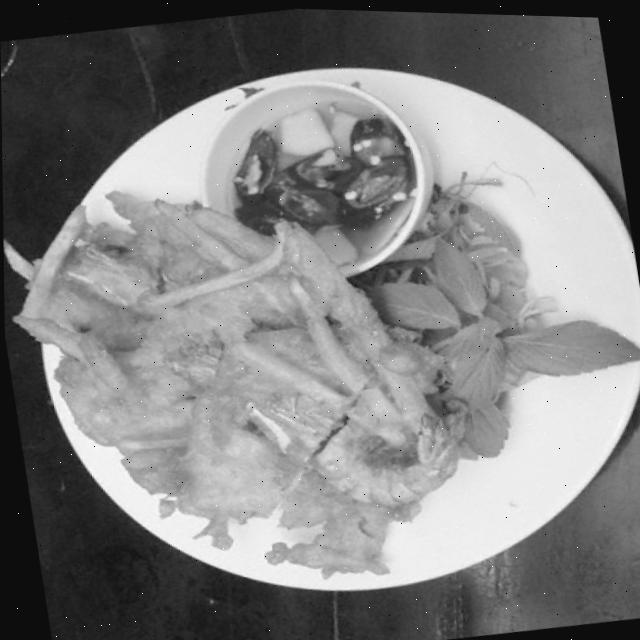炸货点心: (0, 17, 640, 640)
熟制海鲜: (0, 17, 640, 640)
